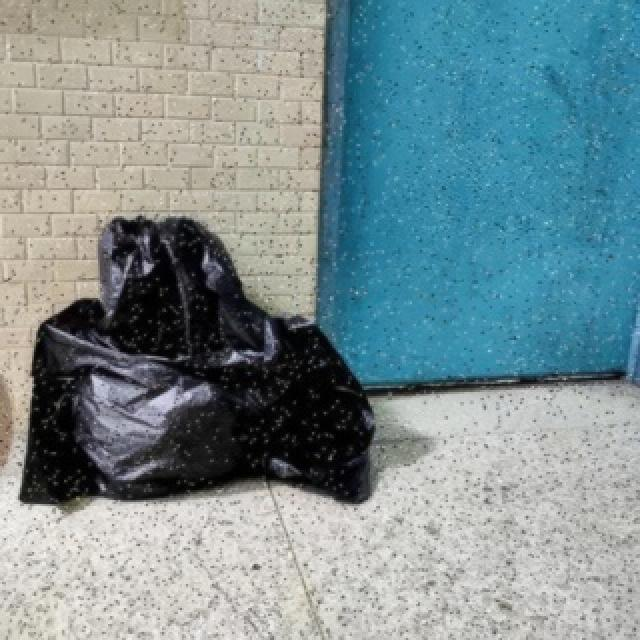high trash: (21, 216, 374, 502)
